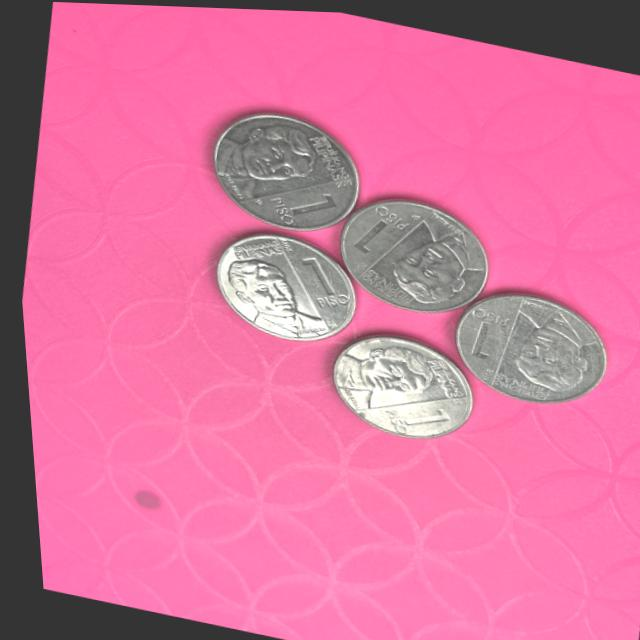1_New_Front: (344, 198, 413, 260), (289, 252, 354, 312), (261, 183, 336, 234), (374, 394, 446, 439), (455, 300, 506, 361)
